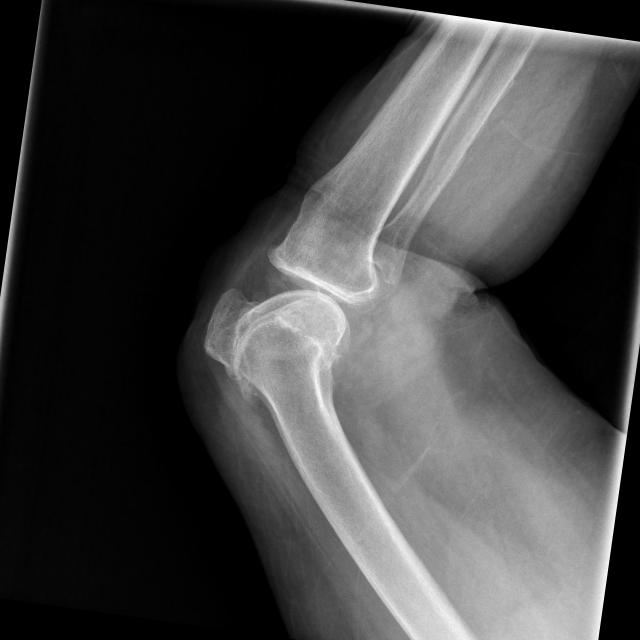Knee: (192, 202, 390, 394)
